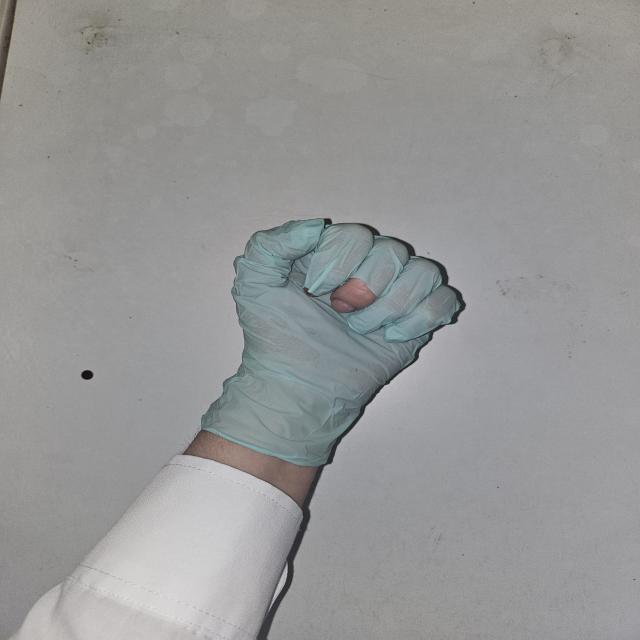gloves_damaged: (198, 214, 467, 465)
